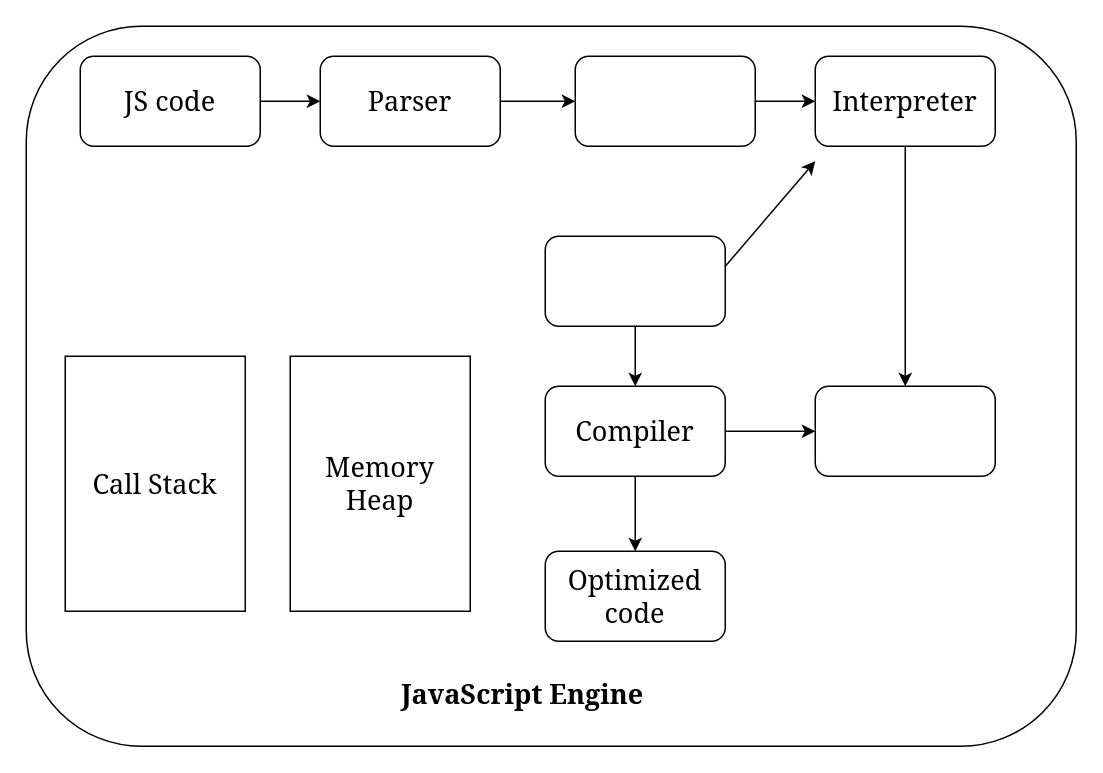
The diagram is 1103 pixels wide and 773 high, and some of its shapes have lost their labels. The box of each missing label's shape, as (x1, y1, x2, y2) in pixels:
AST: (574, 55, 755, 146)
Bytecode: (814, 385, 995, 476)
Profiler: (544, 235, 725, 326)
